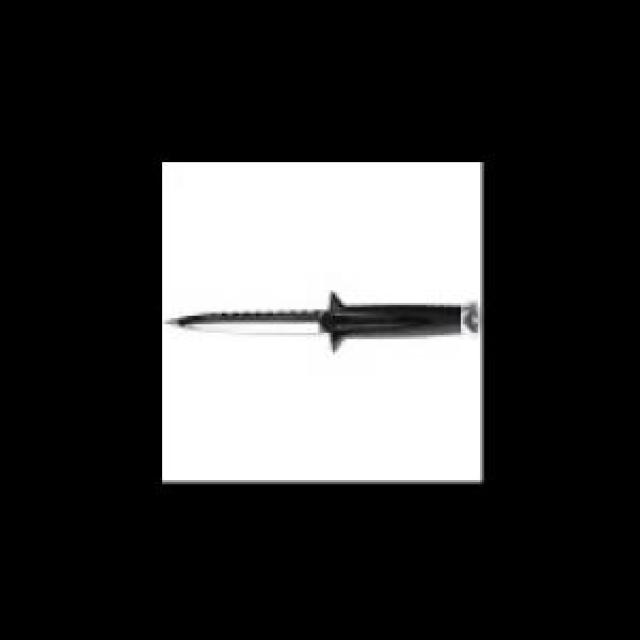knife: (162, 292, 487, 353)
